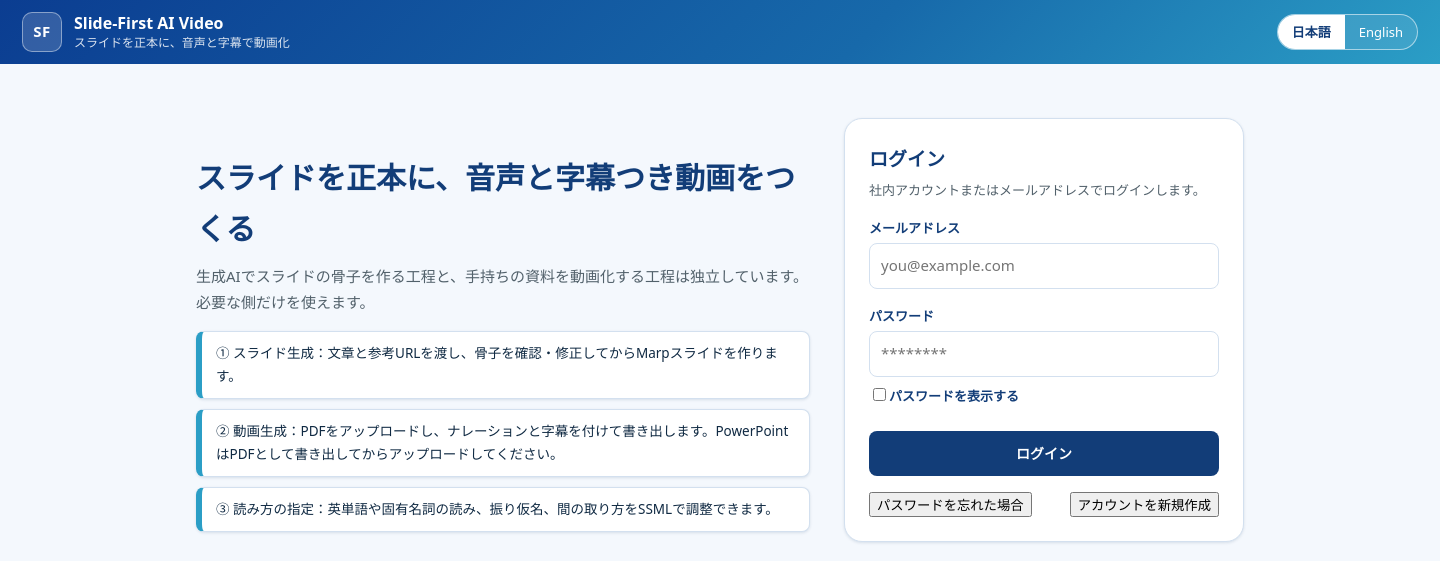
Test: LoginPage › switches to English when language button clicked
Click the button "English" at point(1381, 32), box [1345,15,1417,49]
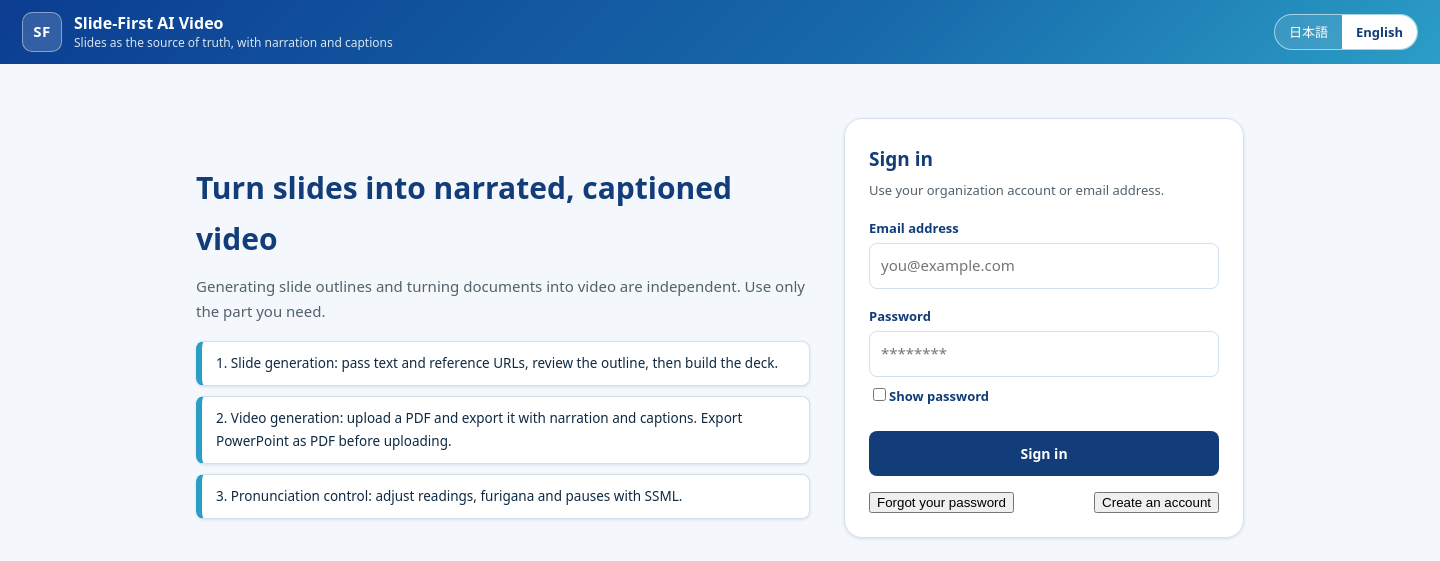
Expected: the text "Sign in" is shown, [869,146,933,172]
Expected: the text "Show password" is shown, [889,387,989,405]
